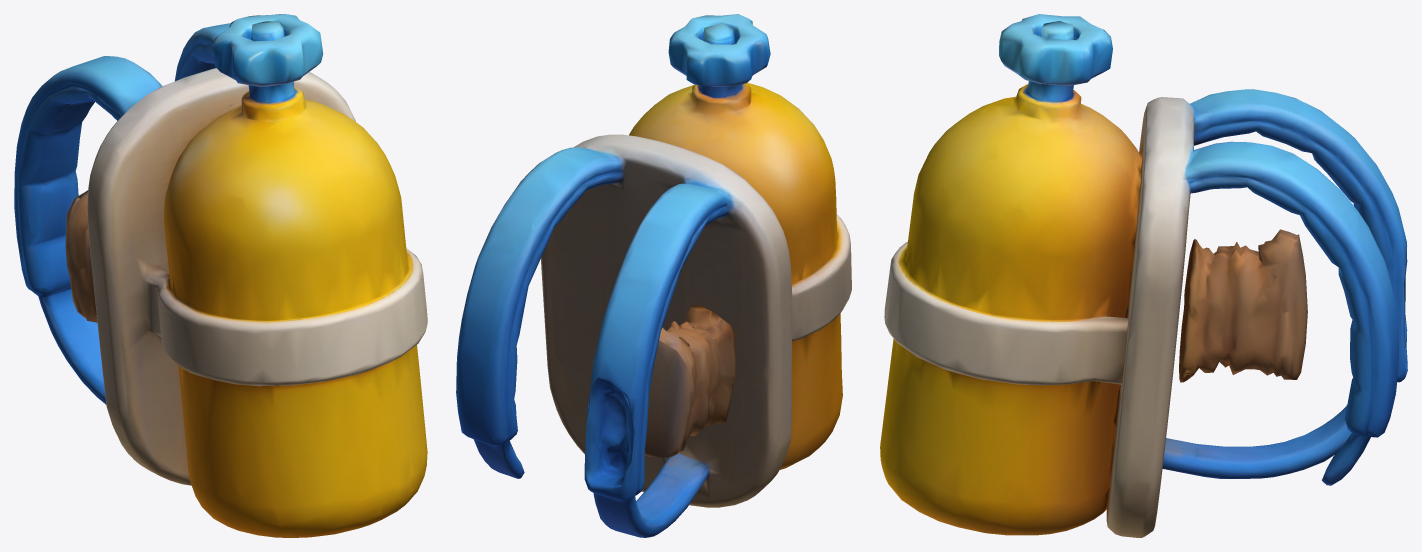
The model's file is cs-scuba-tank.glb.
3 views of the same model, side by side, from view 1: azimuth 30°, elevation 25°; view 2: azimuth 150°, elevation 25°; view 3: azimuth 270°, elevation 25° (orthographic). The views are drawn at different scales.
Parts seen in each view (by area): view 1: tripo_node_236d477a-30be-4aa2-b7d5-273ef997d2fd; view 2: tripo_node_236d477a-30be-4aa2-b7d5-273ef997d2fd; view 3: tripo_node_236d477a-30be-4aa2-b7d5-273ef997d2fd.
Boxes of the visible parts, x1,y1,x2,y2 form: tripo_node_236d477a-30be-4aa2-b7d5-273ef997d2fd: (14,14,427,537); tripo_node_236d477a-30be-4aa2-b7d5-273ef997d2fd: (456,14,851,537); tripo_node_236d477a-30be-4aa2-b7d5-273ef997d2fd: (880,14,1407,537).
Size of the model in its own units: 0.5707 by 1 by 0.982.
Materials: 1 (1 with a texture image).
